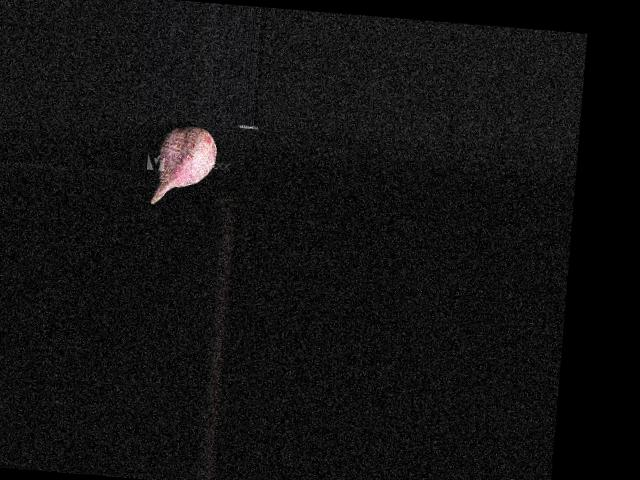beet: (151, 124, 219, 208)
